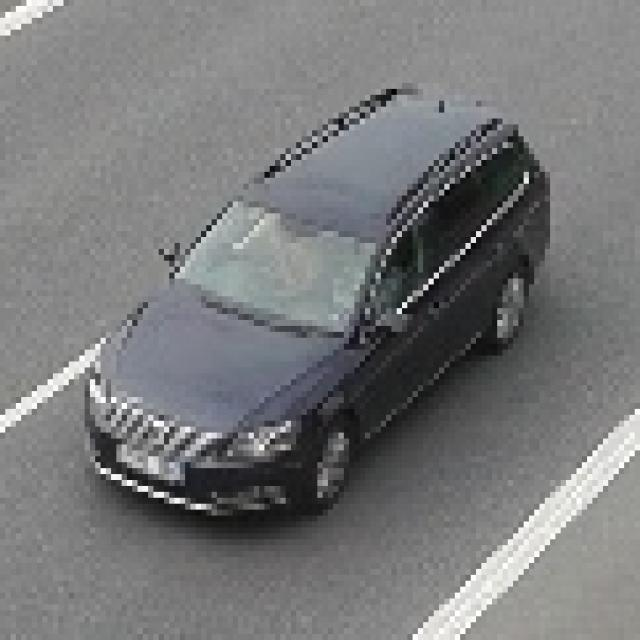SUV: (84, 90, 546, 503)
